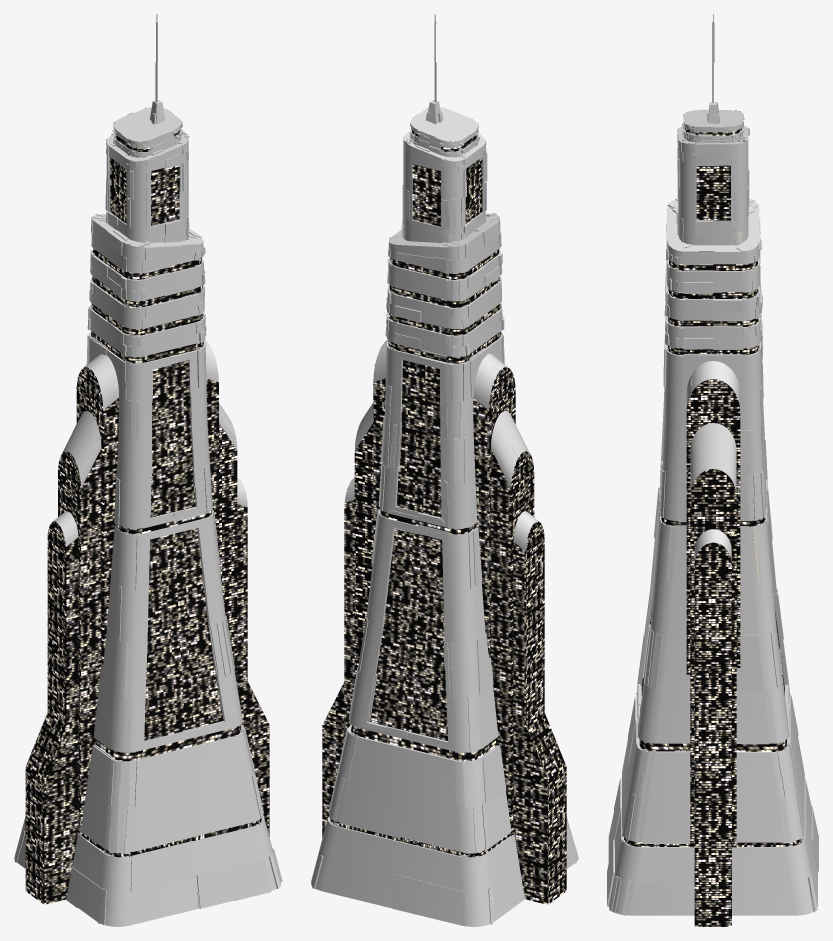
The model's file is Star_5.glb.
The picture shows the model from 3 angles, left to right: view 1: azimuth 30°, elevation 25°; view 2: azimuth 150°, elevation 25°; view 3: azimuth 270°, elevation 25°; orthographic projection.
Visible parts, largest first — view 1: Building5; view 2: Building5; view 3: Building5.
Boxes of the visible parts, bbox=[...] form: Building5: bbox=[14, 14, 282, 926]; Building5: bbox=[311, 14, 578, 926]; Building5: bbox=[607, 14, 818, 926].
Bounding box in the file's own units: 4.8 × 17.4 × 3.87.
Materials: 3 (1 with a texture image).
